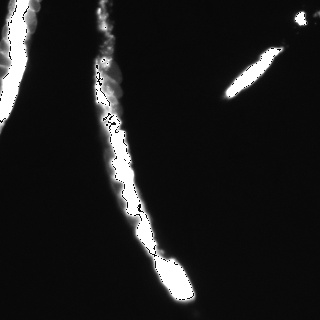embryo: (96, 89, 121, 114), (100, 72, 122, 99), (97, 108, 122, 130), (106, 60, 121, 85), (24, 8, 37, 32), (128, 209, 146, 226), (112, 179, 125, 196), (104, 147, 116, 163), (106, 162, 118, 178), (1, 39, 12, 55), (118, 196, 130, 210), (3, 25, 12, 41)
